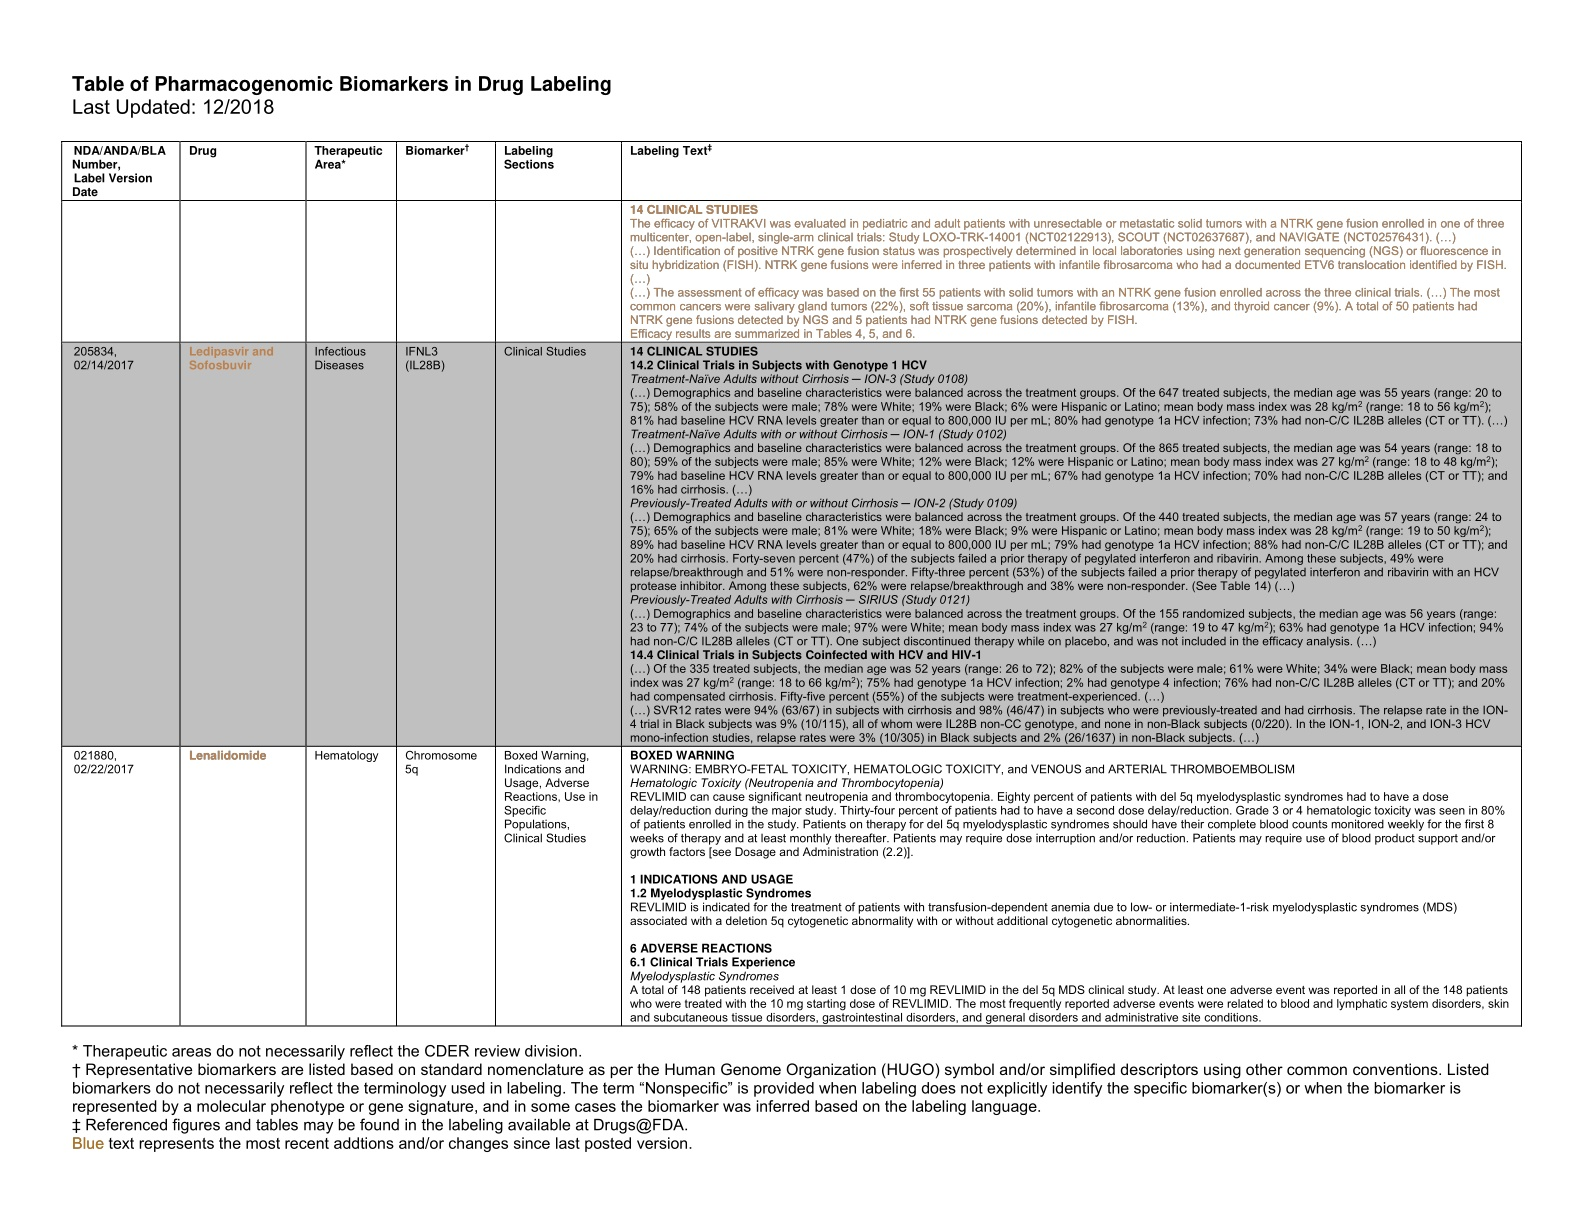full_lined: (59, 139, 1524, 1029)
